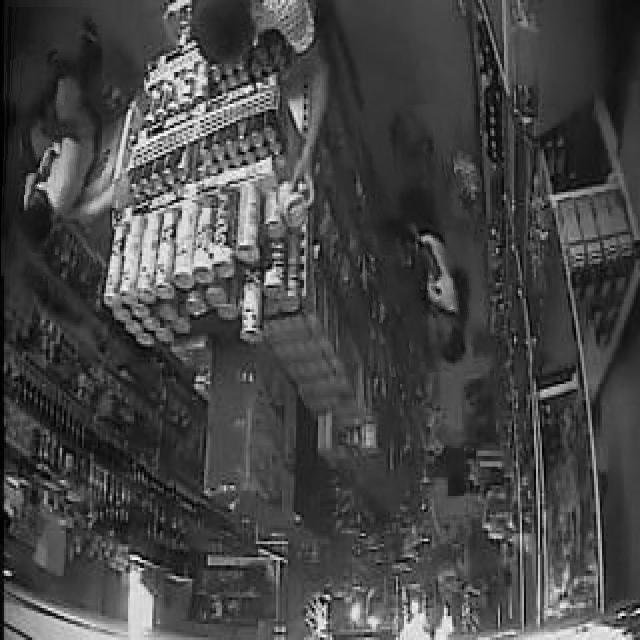normal: (362, 104, 480, 376), (1, 7, 102, 282)
